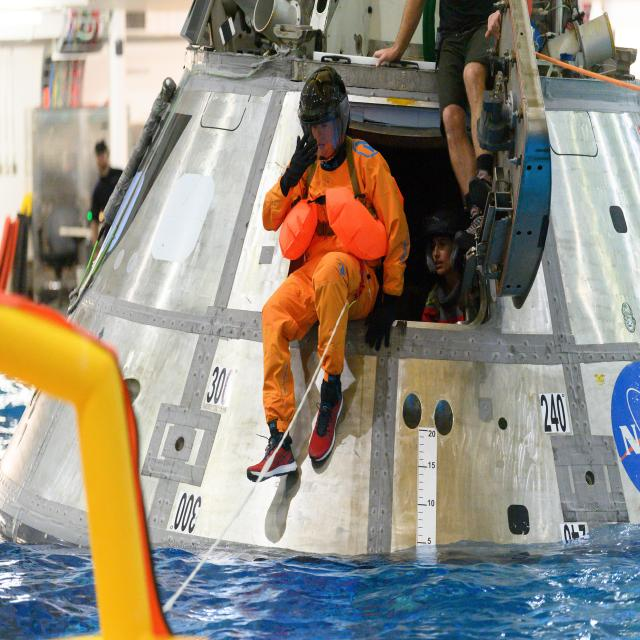Mannequin_wearing_orange-colored_life_preserver_unit_ LPU: (278, 186, 387, 263)
Multi-person_life_raft: (1, 293, 207, 638)
Orion_capsule_mockup_ WEST _located_on_far_end_of_pool: (1, 2, 639, 564)
